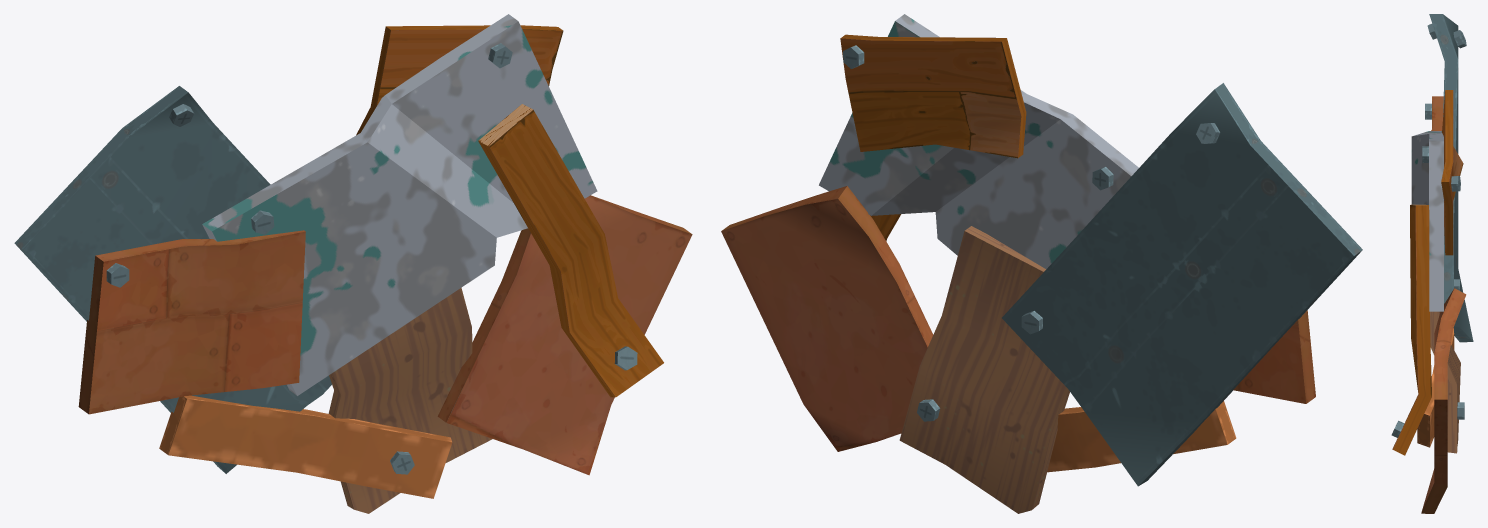
File: env_hideout_wallscrap01.fbx
3 renders of one model, left to right at view 1: azimuth 30°, elevation 25°; view 2: azimuth 150°, elevation 25°; view 3: azimuth 270°, elevation 25°, orthographic. The views are drawn at different scales.
Visible parts, largest first — view 1: wall1; view 2: wall1; view 3: wall1.
Part boxes in pixels (x1=…): wall1: x1=14, y1=14, x2=692, y2=513; wall1: x1=721, y1=14, x2=1362, y2=513; wall1: x1=1391, y1=14, x2=1473, y2=513.
Bounding box in the file's own units: 54.69 × 37.98 × 7.86.
